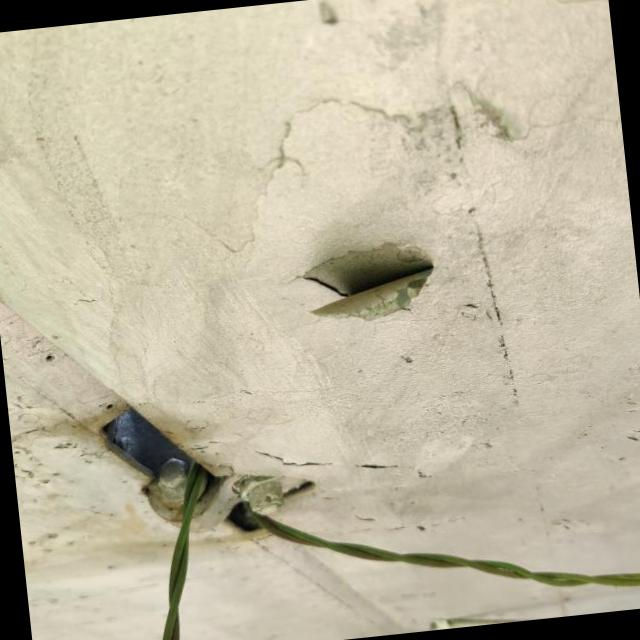Paint-off: (303, 242, 434, 320)
